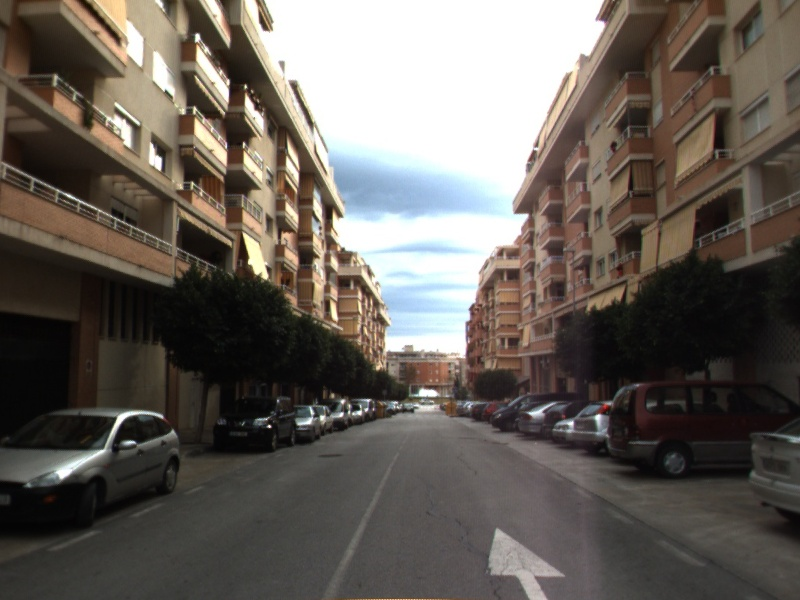STRAIGHT: (482, 525, 568, 600)
